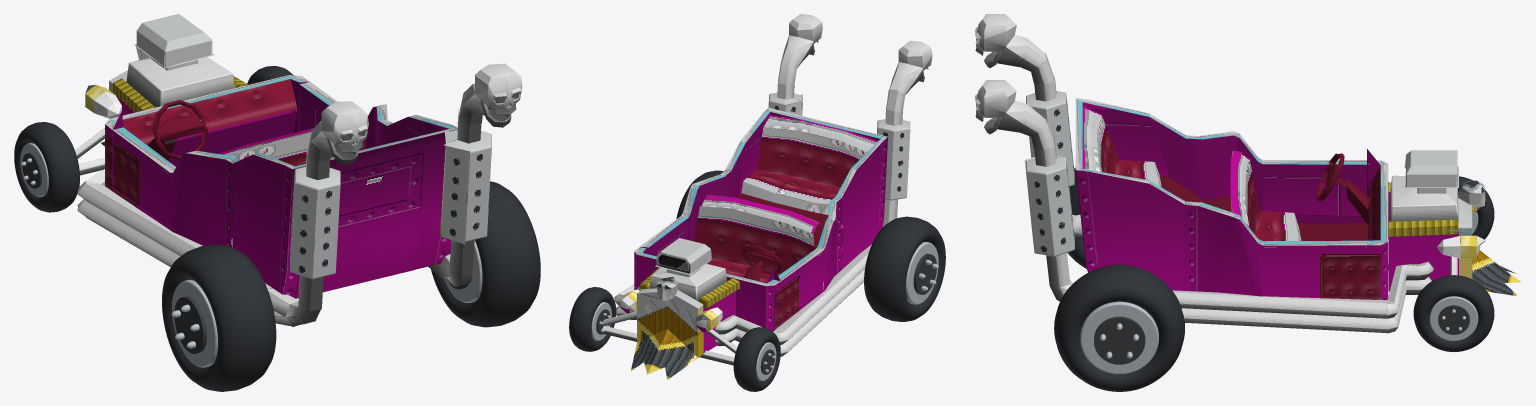
The model's file is car-zombi_v.glb.
3 renders of one model, left to right at view 1: azimuth 30°, elevation 25°; view 2: azimuth 150°, elevation 25°; view 3: azimuth 270°, elevation 25°, orthographic. The views are drawn at different scales.
Parts seen in each view (by area): view 1: zombi_vShape.003, zombi_vShape.006, Rounded tire.171, zombi_vShape.002, zombi_vShape.008, Rounded tire.170, zombi_vShape.007, TrunkRotShape.033, zombi_vSkullsShape, HoodRotShape.037, Rounded tire.168, HoodRotShape.036 (+11 smaller); view 2: zombi_vShape.007, zombi_vShape.003, zombi_vShape.005, zombi_vShape.006, Rounded tire.171, zombi_vShape.008, HoodRotShape.037, Rounded tire.168, Rounded tire.169, DoorDRotShape.114, zombi_vSkullsShape, HoodRotShape.036 (+8 smaller); view 3: zombi_vShape.004, zombi_vShape.006, zombi_vShape.003, Rounded tire.170, zombi_vShape.007, zombi_vShape.005, zombi_vShape.008, DoorPRotShape.124, DoorDRotShape.115, HoodRotShape.037, Rounded tire.169, zombi_vSkullsShape (+10 smaller).
Part boxes in pixels (x1=…): zombi_vShape.003: x1=105, y1=79, x2=448, y2=294; zombi_vShape.006: x1=75, y1=83, x2=509, y2=326; Rounded tire.171: x1=162, y1=244, x2=276, y2=391; zombi_vShape.002: x1=282, y1=129, x2=456, y2=298; zombi_vShape.008: x1=290, y1=129, x2=491, y2=279; Rounded tire.170: x1=431, y1=181, x2=540, y2=327; zombi_vShape.007: x1=123, y1=79, x2=398, y2=223; TrunkRotShape.033: x1=323, y1=216, x2=420, y2=292; zombi_vSkullsShape: x1=321, y1=63, x2=522, y2=164; HoodRotShape.037: x1=113, y1=14, x2=248, y2=112; Rounded tire.168: x1=14, y1=122, x2=79, y2=212; HoodRotShape.036: x1=126, y1=57, x2=234, y2=106; zombi_vShape.007: x1=694, y1=115, x2=877, y2=283; zombi_vShape.003: x1=636, y1=112, x2=887, y2=353; zombi_vShape.005: x1=620, y1=107, x2=887, y2=379; zombi_vShape.006: x1=602, y1=35, x2=923, y2=365; Rounded tire.171: x1=864, y1=216, x2=945, y2=321; zombi_vShape.008: x1=768, y1=93, x2=910, y2=226; HoodRotShape.037: x1=639, y1=238, x2=740, y2=308; Rounded tire.168: x1=733, y1=327, x2=780, y2=391; Rounded tire.169: x1=569, y1=287, x2=616, y2=351; DoorDRotShape.114: x1=774, y1=251, x2=822, y2=322; zombi_vSkullsShape: x1=789, y1=14, x2=932, y2=82; HoodRotShape.036: x1=649, y1=264, x2=727, y2=300; zombi_vShape.004: x1=1075, y1=170, x2=1388, y2=299; zombi_vShape.006: x1=984, y1=34, x2=1485, y2=333; zombi_vShape.003: x1=1082, y1=102, x2=1458, y2=299; Rounded tire.170: x1=1054, y1=264, x2=1184, y2=391; zombi_vShape.007: x1=1082, y1=106, x2=1380, y2=241; zombi_vShape.005: x1=1075, y1=98, x2=1521, y2=296; zombi_vShape.008: x1=1024, y1=91, x2=1075, y2=285; DoorPRotShape.124: x1=1263, y1=245, x2=1366, y2=296; DoorDRotShape.115: x1=1263, y1=164, x2=1366, y2=215; HoodRotShape.037: x1=1388, y1=150, x2=1458, y2=236; Rounded tire.169: x1=1413, y1=275, x2=1494, y2=351; zombi_vSkullsShape: x1=974, y1=14, x2=1016, y2=134.
Size of the model in its own units: 2.96 by 2.64 by 4.66.
Materials: 13 (10 with a texture image).
